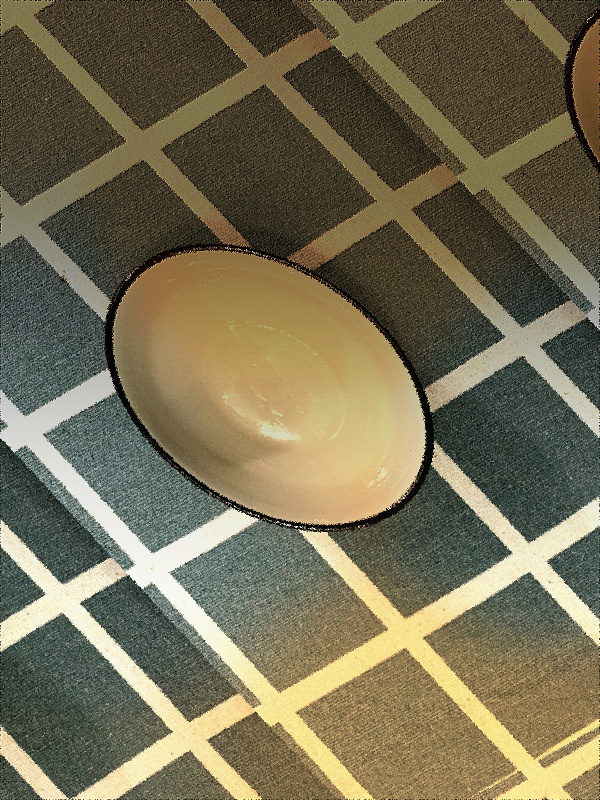bowl_small: (22, 183, 515, 589)
